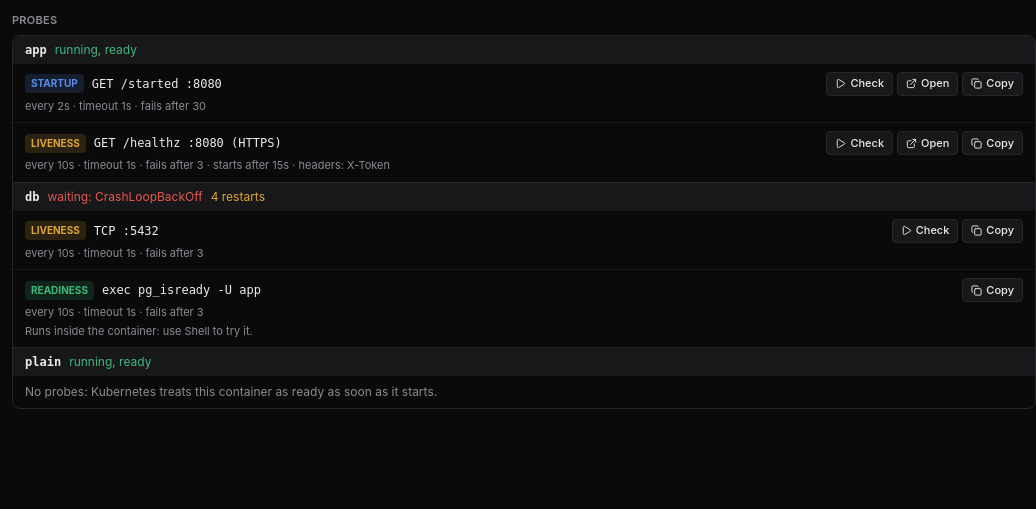
Test: ProbesSection › shows a failed probe and an error from the backend
Click the button "Check" in the row of "GET /started :8080" at (860, 84), box [826,72,893,96]
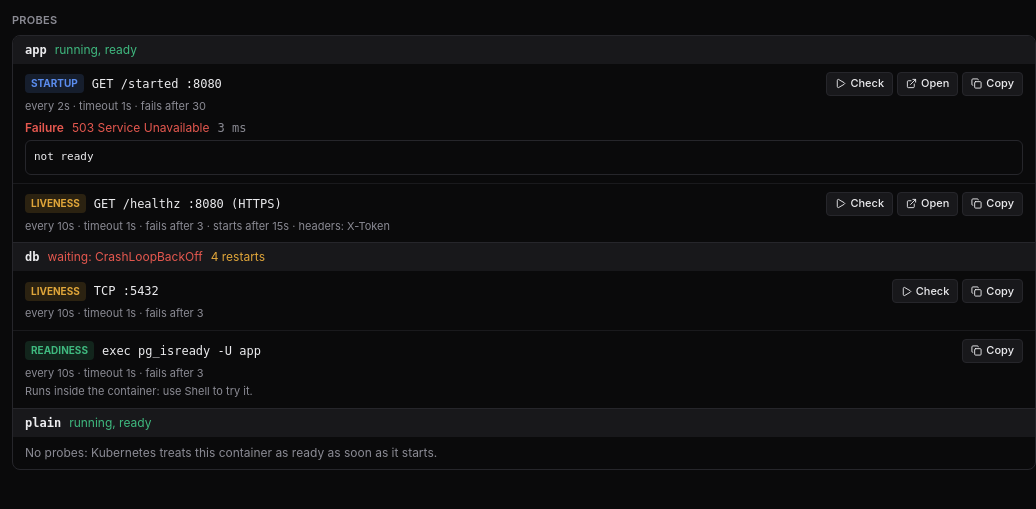
Result: the text "Failure" is shown at [25,120,64,136]
Click the button "Check" in the row of "GET /healthz :8080 (HTTPS)" at (860, 204), box [826,192,893,216]
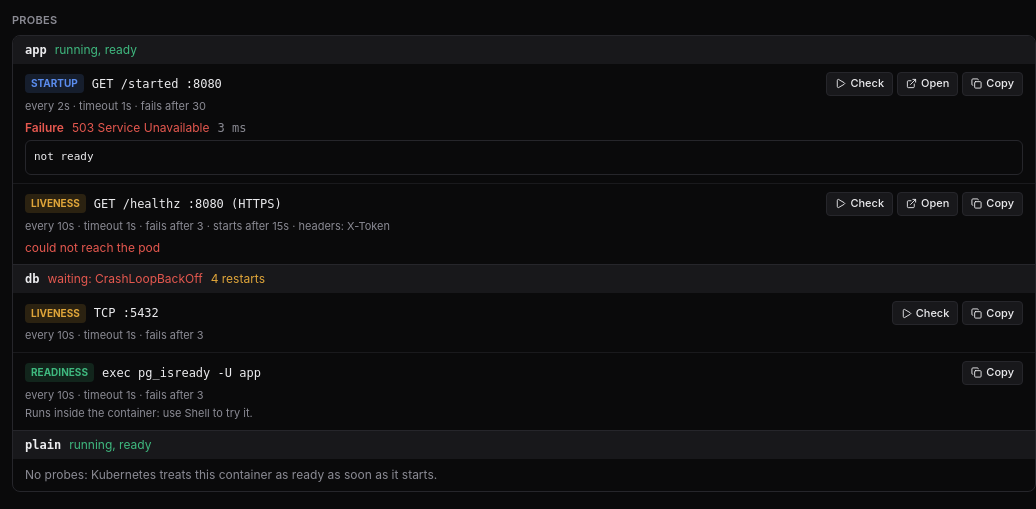
Result: the text "could not reach the pod" is shown at [25,240,160,255]
